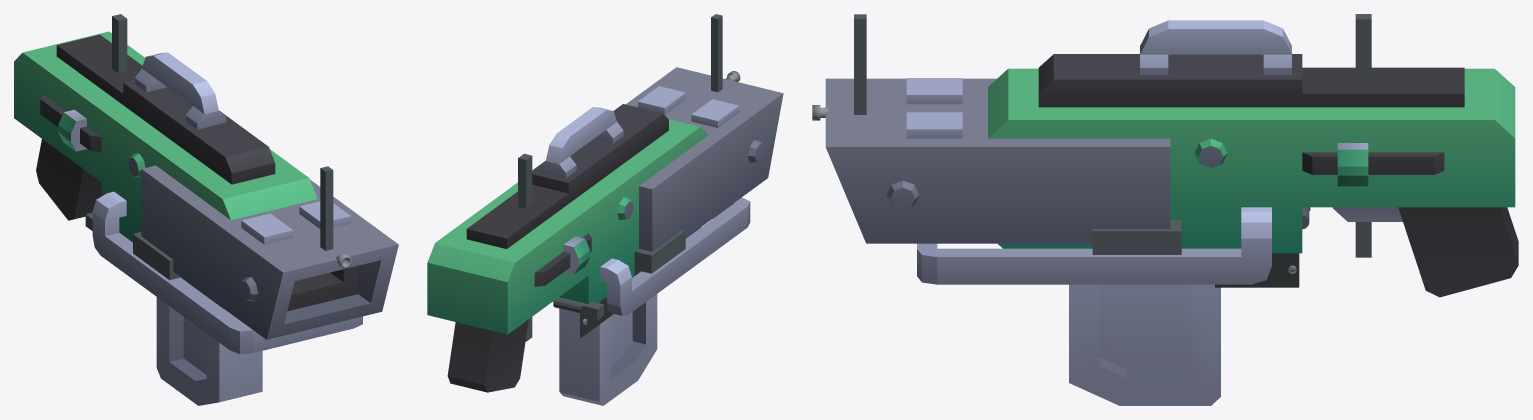
The model's file is weapon_11.glb.
3 views of the same model, side by side, from view 1: azimuth 30°, elevation 25°; view 2: azimuth 150°, elevation 25°; view 3: azimuth 270°, elevation 25° (orthographic). The views are drawn at different scales.
Parts seen in each view (by area): view 1: receiver_geometry, magazine.001_geometry, CC0_weapon_11_geometry; view 2: receiver_geometry, magazine.001_geometry, CC0_weapon_11_geometry, charging_handle_geometry, Recessed receiver plate.001; view 3: receiver_geometry, magazine.001_geometry, CC0_weapon_11_geometry, Recessed receiver plate.
Boxes of the visible parts, x1,y1,x2,y2 form: receiver_geometry: [14, 31, 398, 354]; magazine.001_geometry: [156, 297, 262, 405]; CC0_weapon_11_geometry: [112, 14, 333, 282]; receiver_geometry: [427, 67, 783, 392]; magazine.001_geometry: [559, 294, 657, 405]; CC0_weapon_11_geometry: [518, 14, 722, 341]; charging_handle_geometry: [553, 297, 603, 320]; Recessed receiver plate.001: [580, 297, 613, 337]; receiver_geometry: [825, 20, 1518, 297]; magazine.001_geometry: [1069, 284, 1220, 405]; CC0_weapon_11_geometry: [854, 14, 1371, 257]; Recessed receiver plate: [1215, 253, 1299, 287].
Bounding box in the file's own units: 0.2054 × 0.4676 × 0.795.
Materials: 5 (1 with a texture image).
